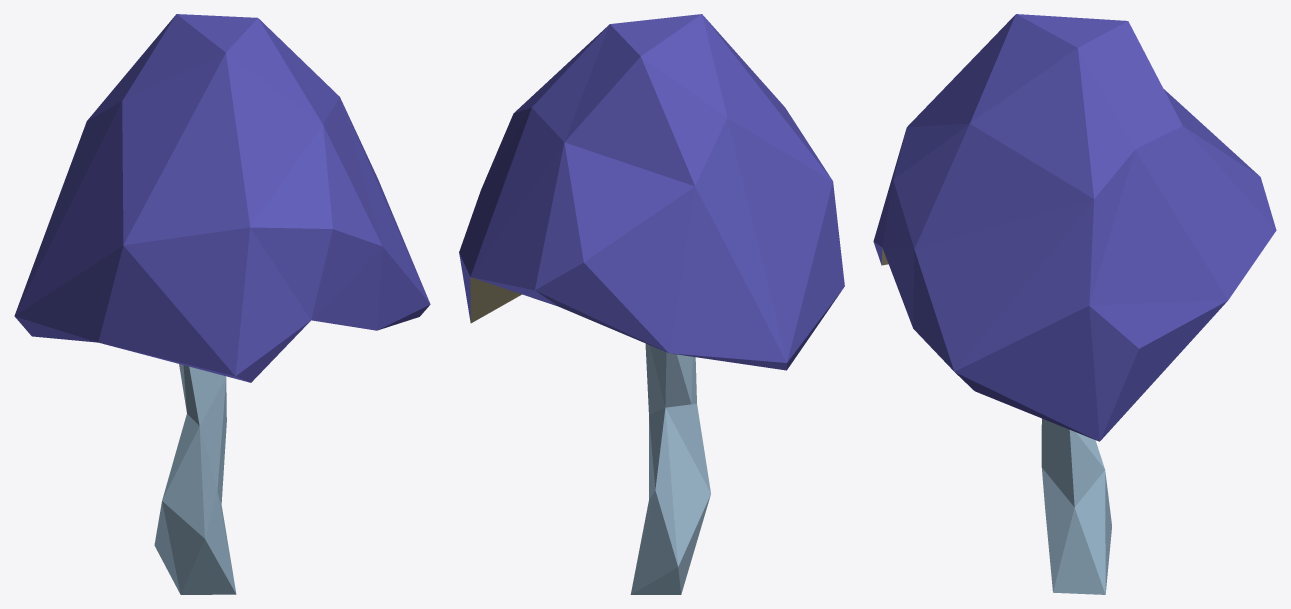
Rendered from mushroomlp4.fbx.
3 views of the same model, side by side, from view 1: azimuth 30°, elevation 25°; view 2: azimuth 150°, elevation 25°; view 3: azimuth 270°, elevation 25° (orthographic). The views are drawn at different scales.
Parts seen in each view (by area): view 1: mushroom; view 2: mushroom; view 3: mushroom.
Boxes of the visible parts, x1,y1,x2,y2 form: mushroom: [14, 14, 430, 594]; mushroom: [459, 14, 844, 594]; mushroom: [873, 14, 1276, 594].
Size of the model in its own units: 1999 by 3150 by 2029.
